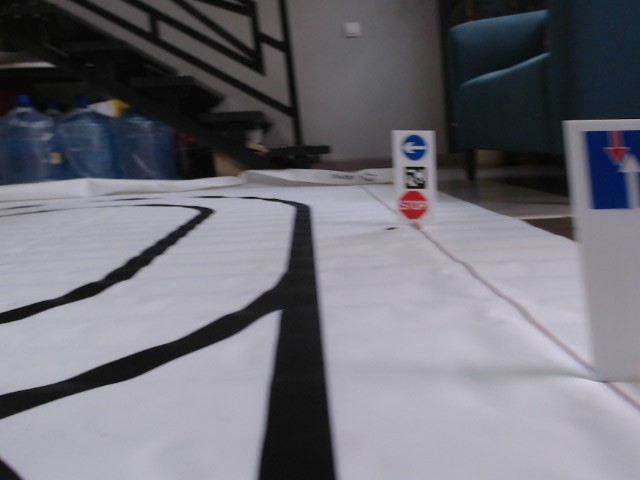Stop: (397, 190, 427, 218)
priority_movement: (583, 130, 640, 213)
